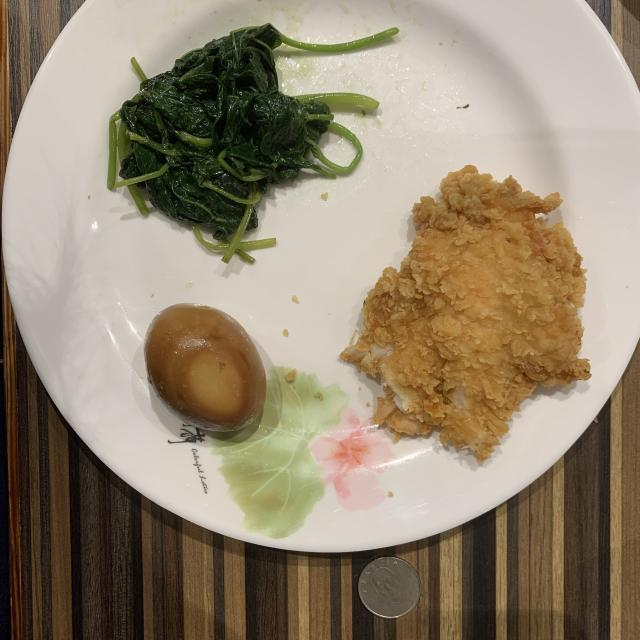coin: (358, 556, 421, 619)
fried chicken cutlet: (341, 166, 590, 461)
soy egg: (144, 304, 266, 431)
sweet potato leaves: (108, 24, 399, 262)
